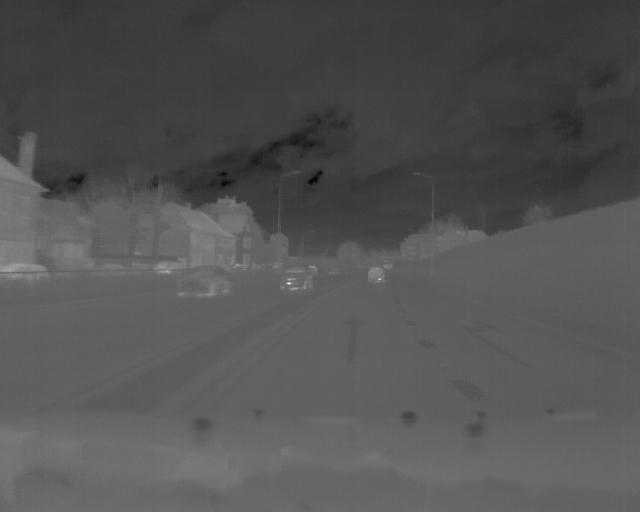car: (173, 265, 235, 300), (277, 262, 316, 293), (365, 264, 386, 286)
